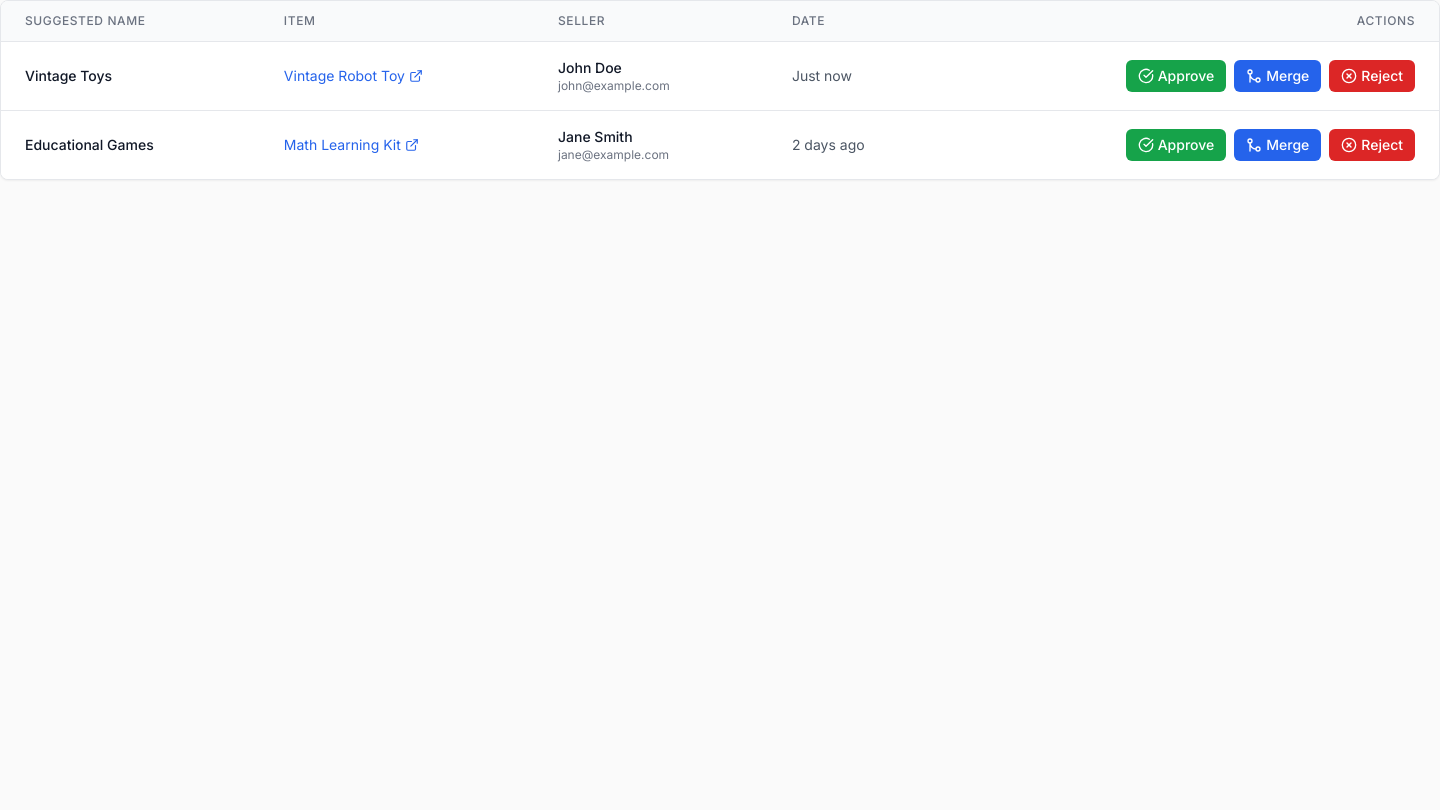
CategorySuggestionsList › Modal Interactions › opens approve modal when approve button clicked
Click the button with test id "approve-btn-sug-001": (1176, 76) left=1126, top=60, right=1226, bottom=92
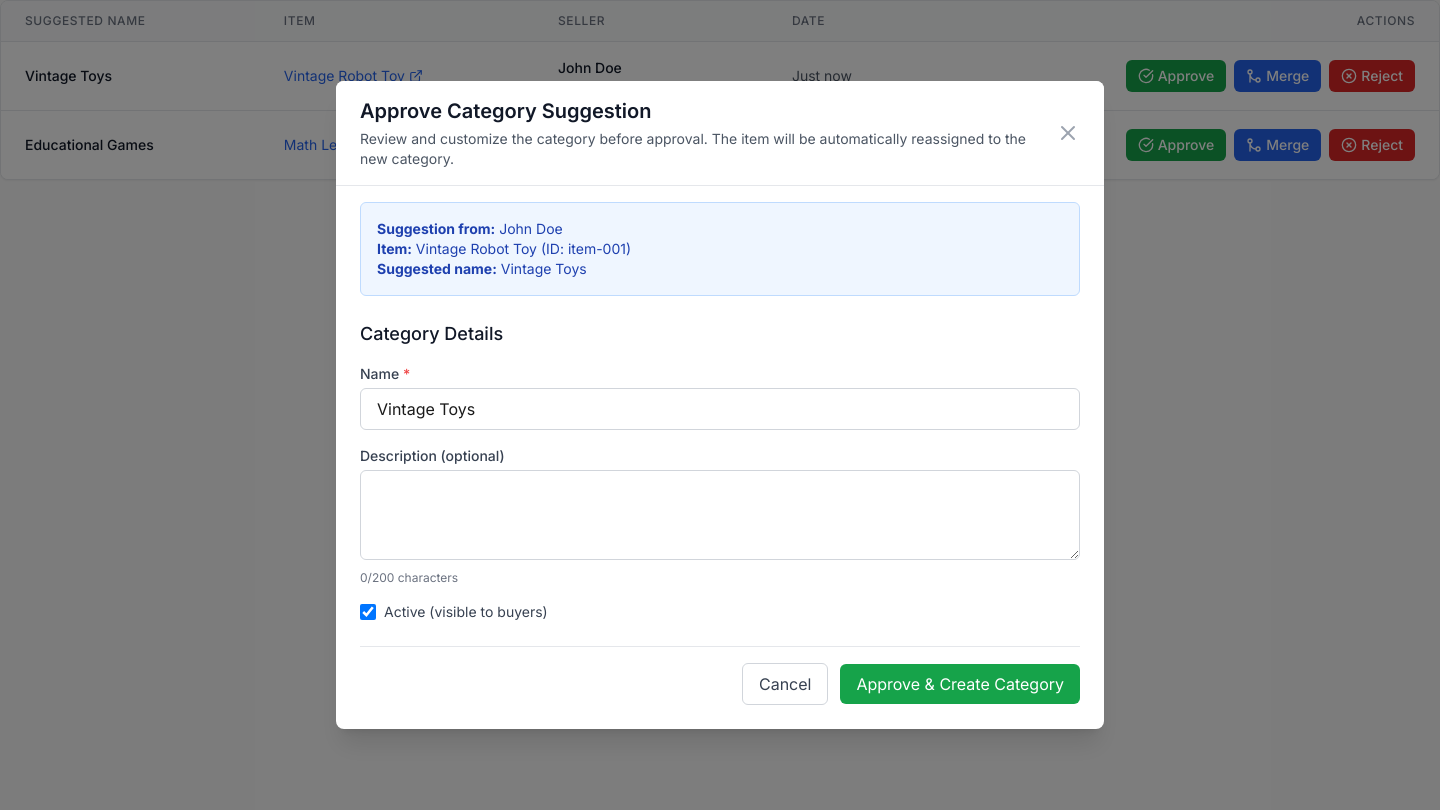
Check: the heading "Approve Category Suggestion" is shown, box left=360, top=99, right=652, bottom=123
